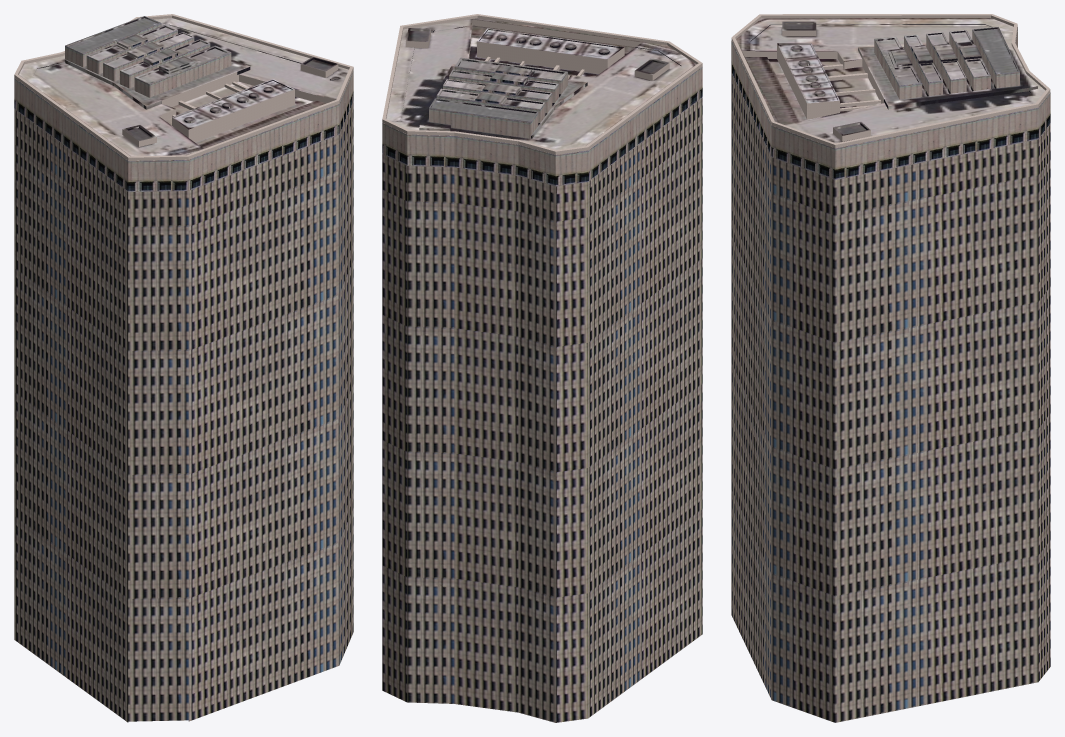
Rendered from qwqw.fbx.
3 renders of one model, left to right at view 1: azimuth 30°, elevation 25°; view 2: azimuth 150°, elevation 25°; view 3: azimuth 270°, elevation 25°, orthographic. The views are drawn at different scales.
Visible parts, largest first — view 1: Goldman_Sachs_World_Headquarters1; view 2: Goldman_Sachs_World_Headquarters1; view 3: Goldman_Sachs_World_Headquarters1.
Part boxes in pixels (x1=…): Goldman_Sachs_World_Headquarters1: x1=14, y1=14, x2=353, y2=722; Goldman_Sachs_World_Headquarters1: x1=382, y1=14, x2=702, y2=722; Goldman_Sachs_World_Headquarters1: x1=731, y1=14, x2=1050, y2=722.
Size of what is drawn, in the model's own units: 2605 by 5511 by 2679.
